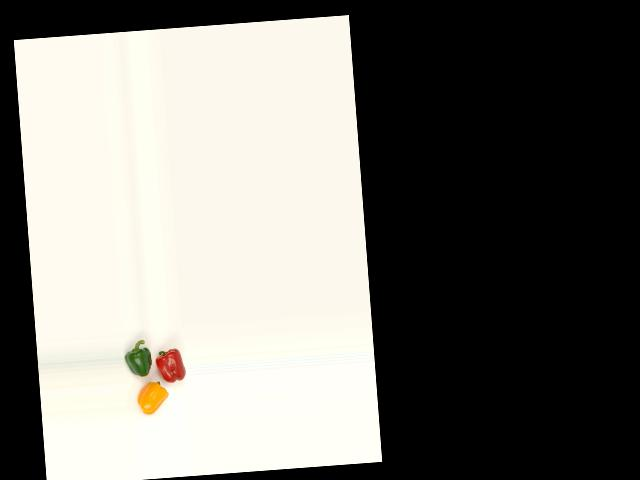bell_pepper: (123, 338, 154, 378)
